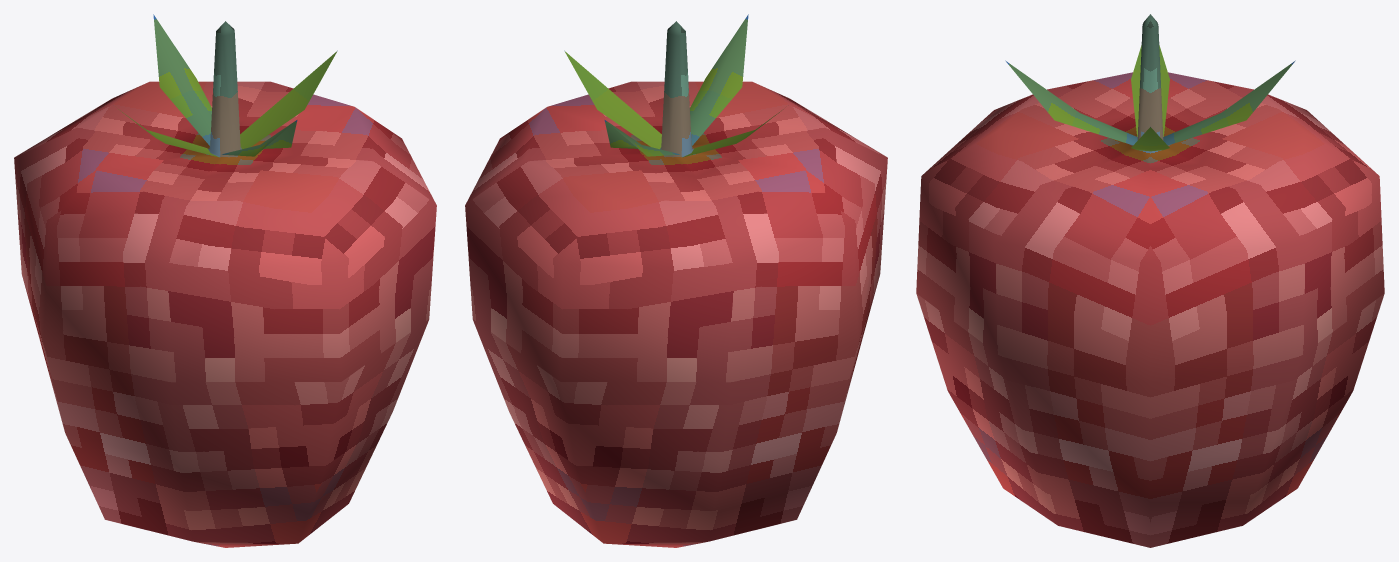
The model's file is Raspberry.fbx.
3 views of the same model, side by side, from view 1: azimuth 30°, elevation 25°; view 2: azimuth 150°, elevation 25°; view 3: azimuth 270°, elevation 25° (orthographic).
Visible parts, largest first — view 1: attach; view 2: attach; view 3: attach.
Boxes of the visible parts, x1,y1,x2,y2 form: attach: (14,14,436,547); attach: (465,14,887,547); attach: (916,14,1384,547).
Size of the model in its own units: 0.1972 by 0.2729 by 0.2175.
1 material, 1 textured.
